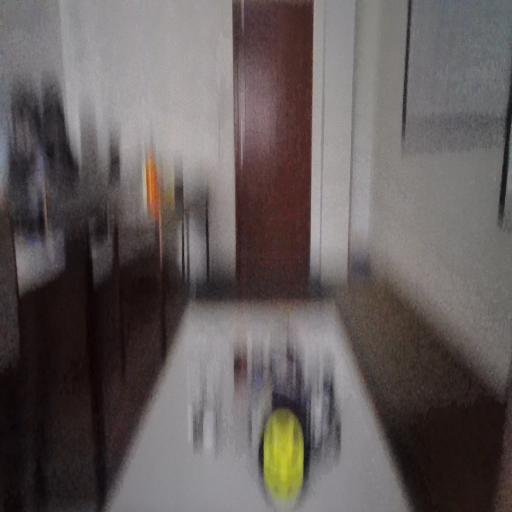car: (190, 315, 325, 475)
